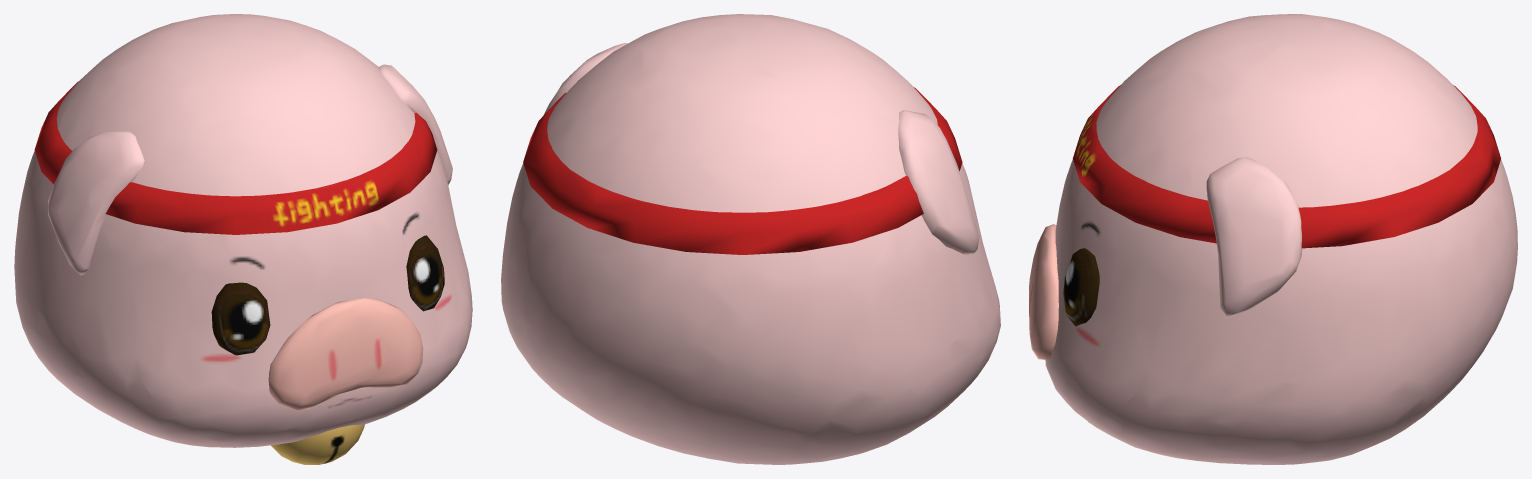
The model's file is dimoxiaozhu_6.fbx.
The picture shows the model from 3 angles, left to right: view 1: azimuth 30°, elevation 25°; view 2: azimuth 150°, elevation 25°; view 3: azimuth 270°, elevation 25°; orthographic projection. The views are drawn at different scales.
Visible parts, largest first — view 1: 小猪_1_2; view 2: 小猪_1_2; view 3: 小猪_1_2.
Part boxes in pixels (x1,y1,x2,y2): 小猪_1_2: (14,14,472,464); 小猪_1_2: (501,14,1000,464); 小猪_1_2: (1029,14,1517,464).
Bounding box in the file's own units: 35.49 × 31.84 × 36.18.
Materials: 1 (1 with a texture image).
